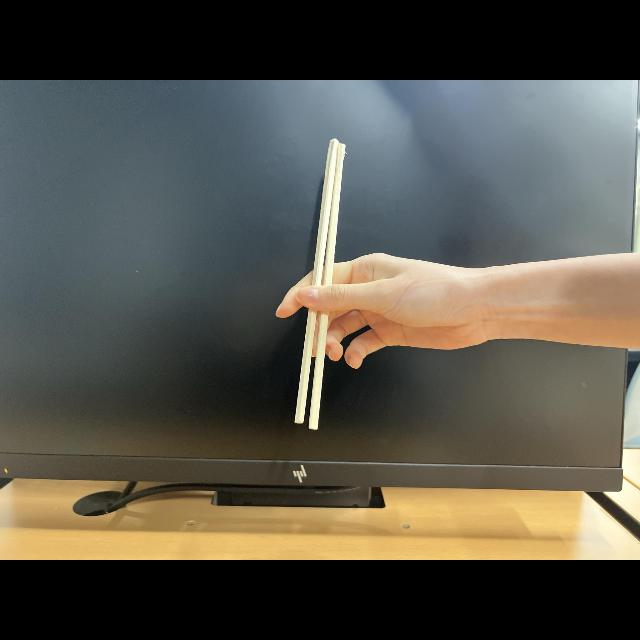stick: (292, 140, 396, 432)
